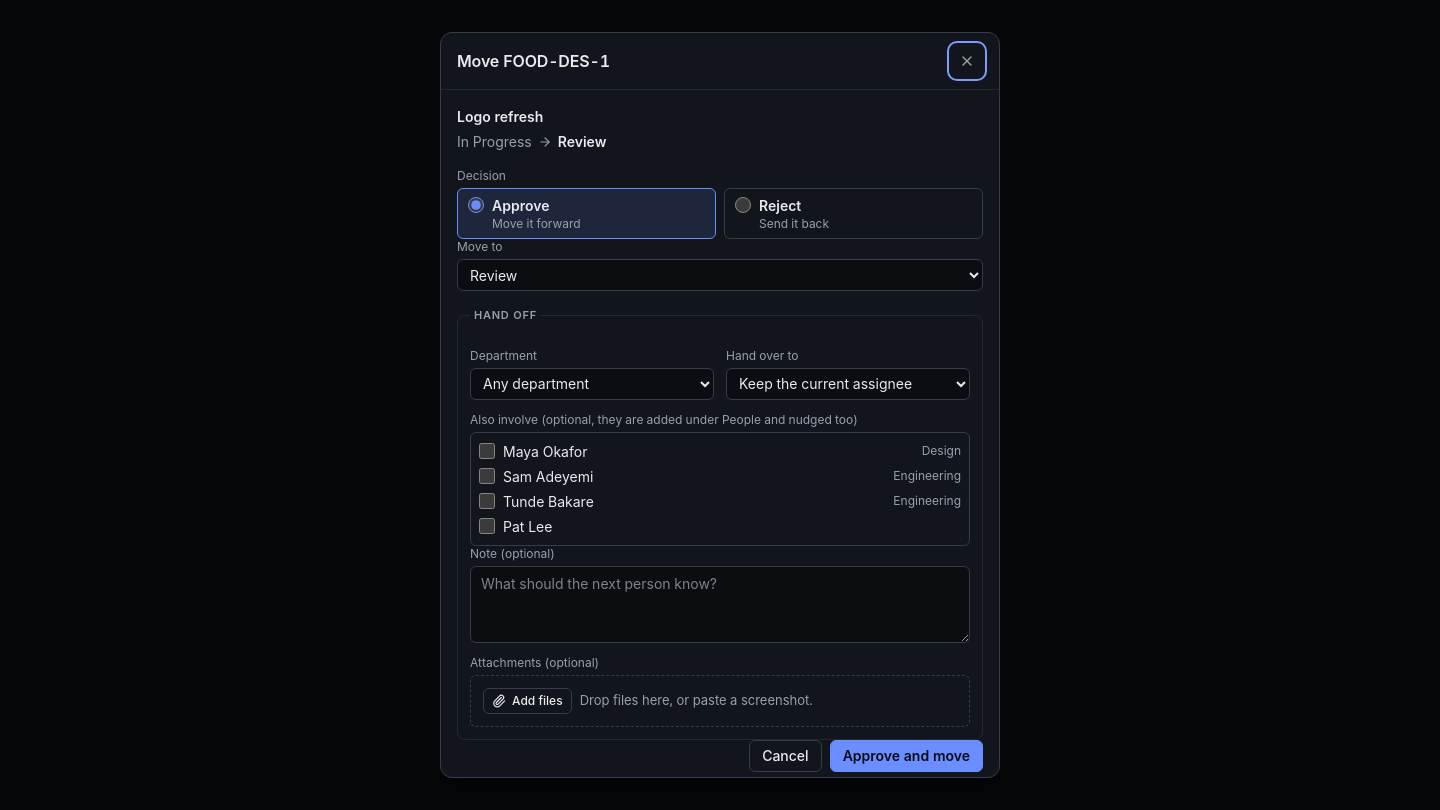
Test: HandoffDialog › keeps the dialog open and shows the server reason when the move is refused
Click the button "Approve and move" at x=906, y=756, box [830, 740, 983, 772]
(page scrolled)
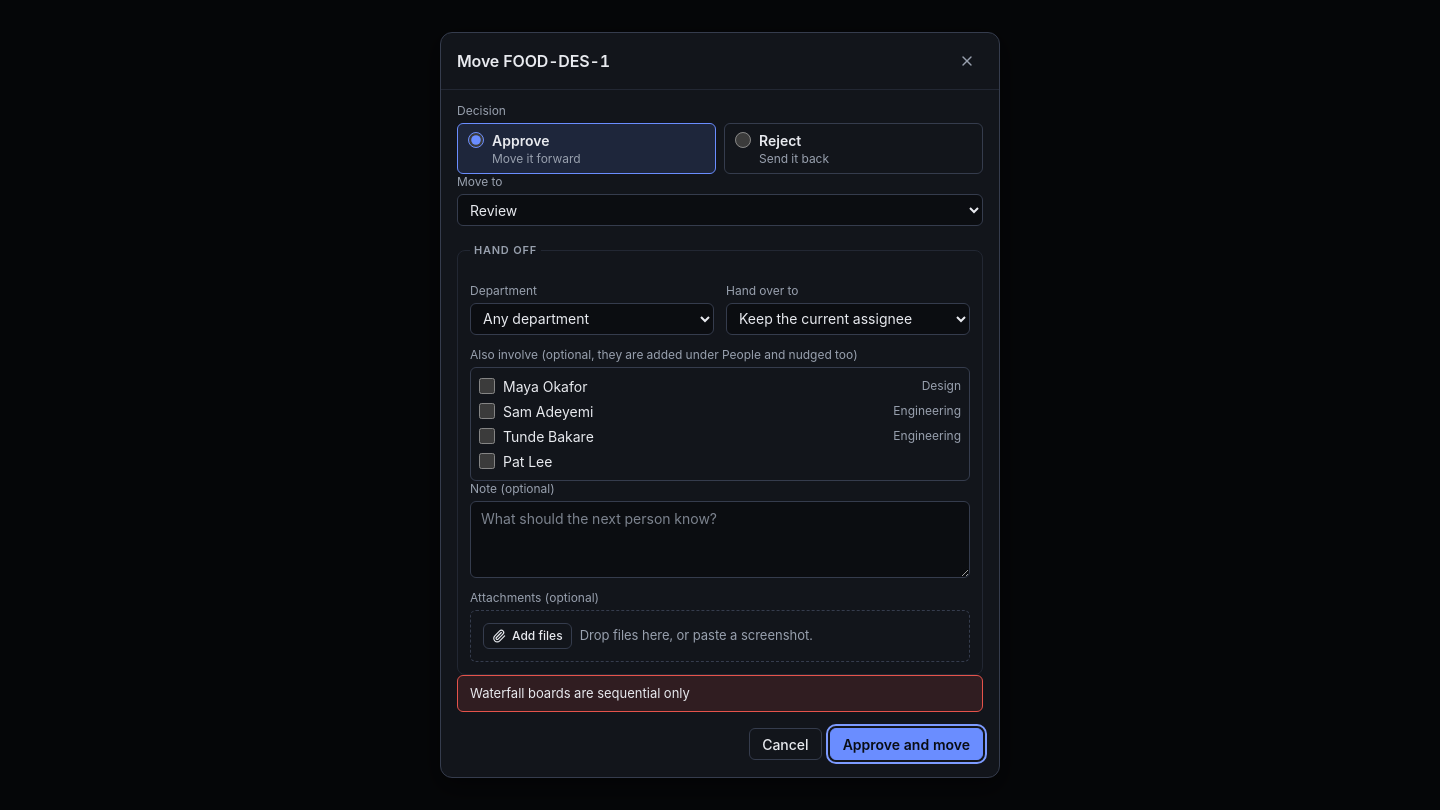
Expected: the button "Approve and move" is enabled, [830, 728, 983, 760]
Expected: the message shows "sequential only", [470, 685, 690, 701]
